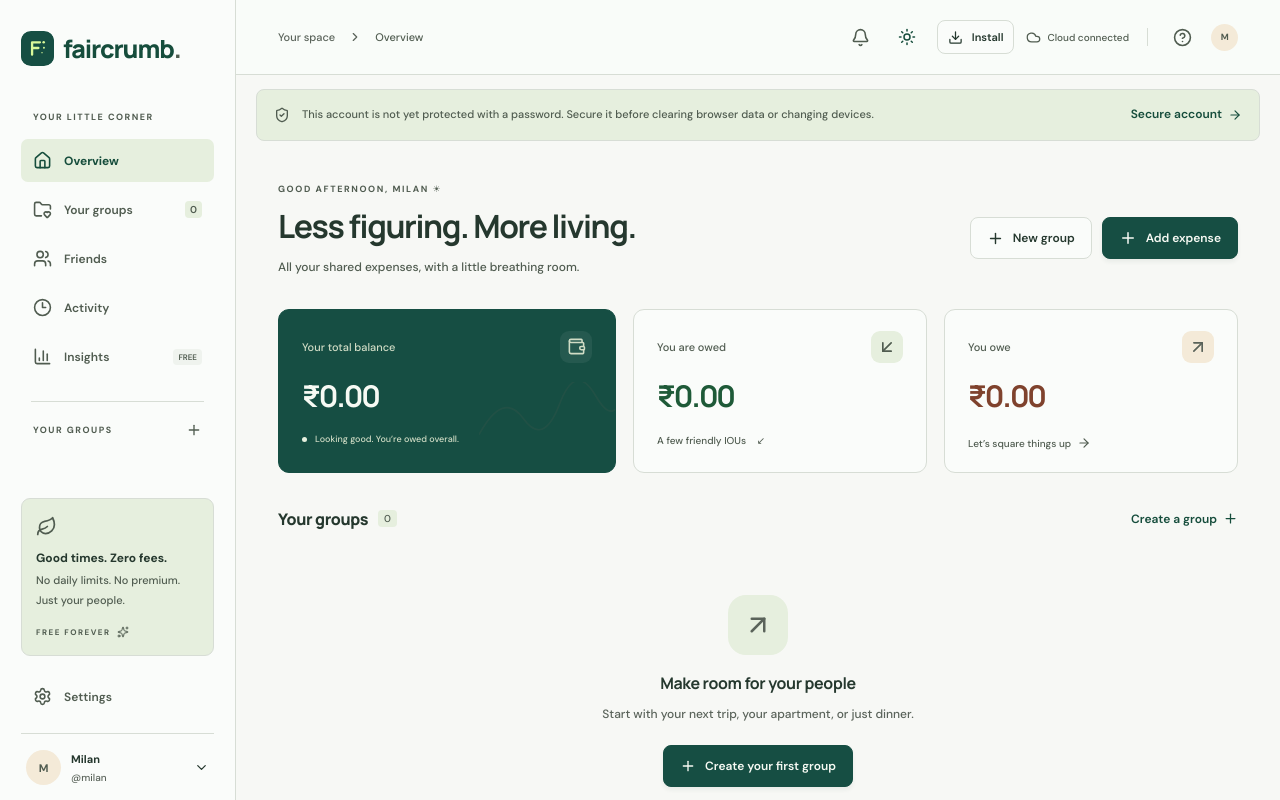
Test: refreshes server account status after returning from the confirmation tab
The width and height of the screenshot is (1280, 800).
Click the button "Settings".
click(118, 696)  # box [21,675,214,718]
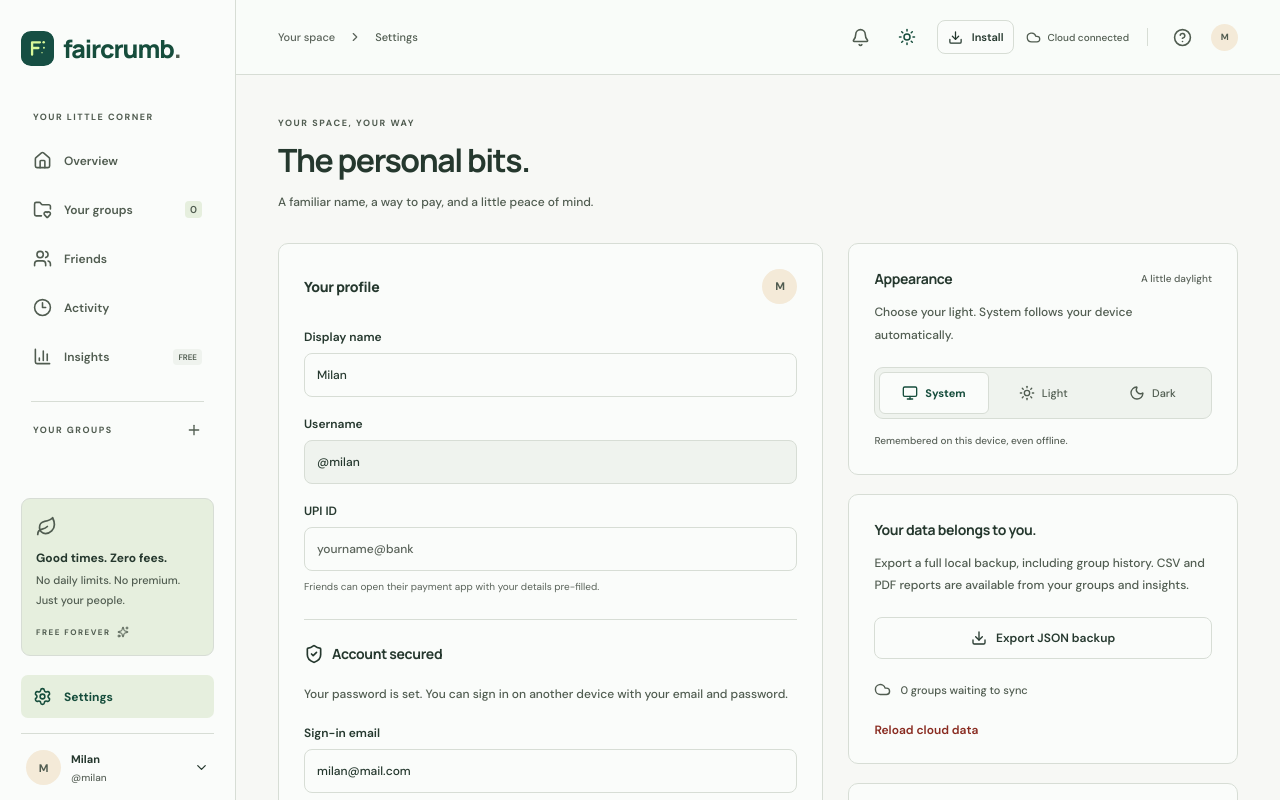
Now the text "Account secured" is shown, box [332,644,442,664]
